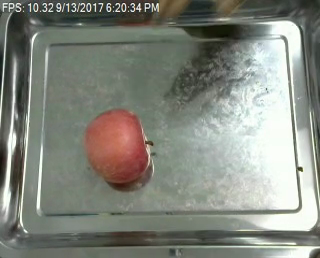Apple: (82, 105, 149, 191)
